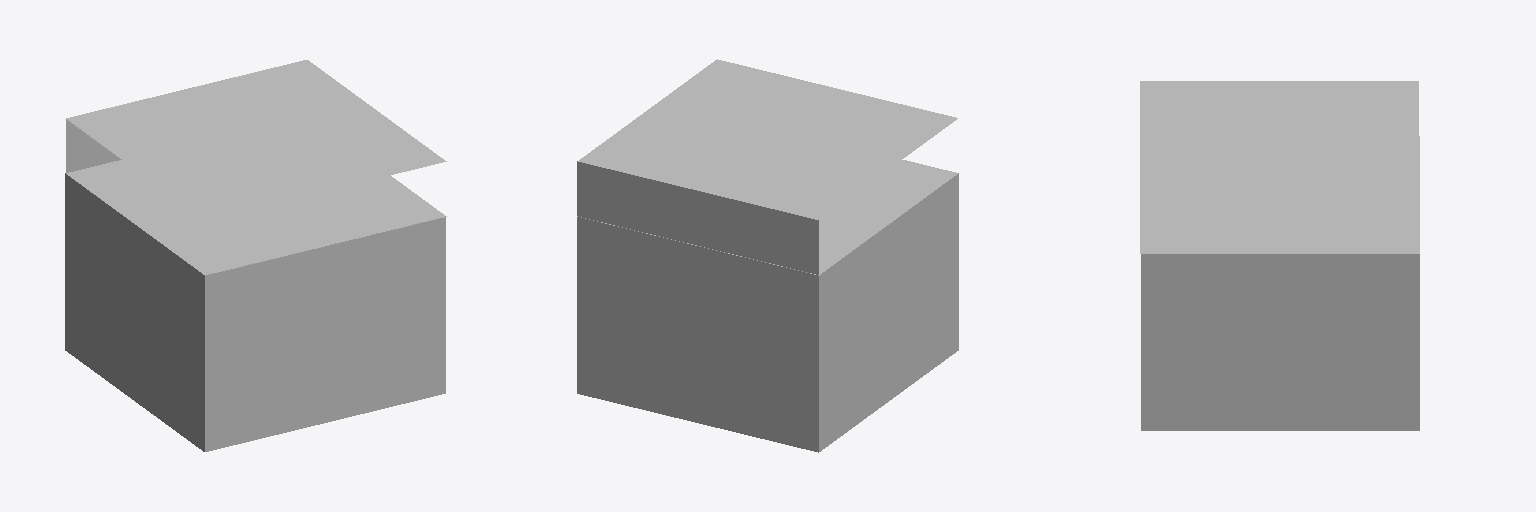
Rendered from water_one.34ff3246.obj.
3 renders of one model, left to right at view 1: azimuth 30°, elevation 25°; view 2: azimuth 150°, elevation 25°; view 3: azimuth 270°, elevation 25°, orthographic.
Visible parts, largest first — view 1: Water_one_Cube.006; view 2: Water_one_Cube.006; view 3: Water_one_Cube.006.
Boxes of the visible parts, <box> form: Water_one_Cube.006: <box>65,60,446,451</box>; Water_one_Cube.006: <box>577,59,958,452</box>; Water_one_Cube.006: <box>1140,81,1419,430</box>.
Size of the model in its own units: 2 by 1.83 by 2.